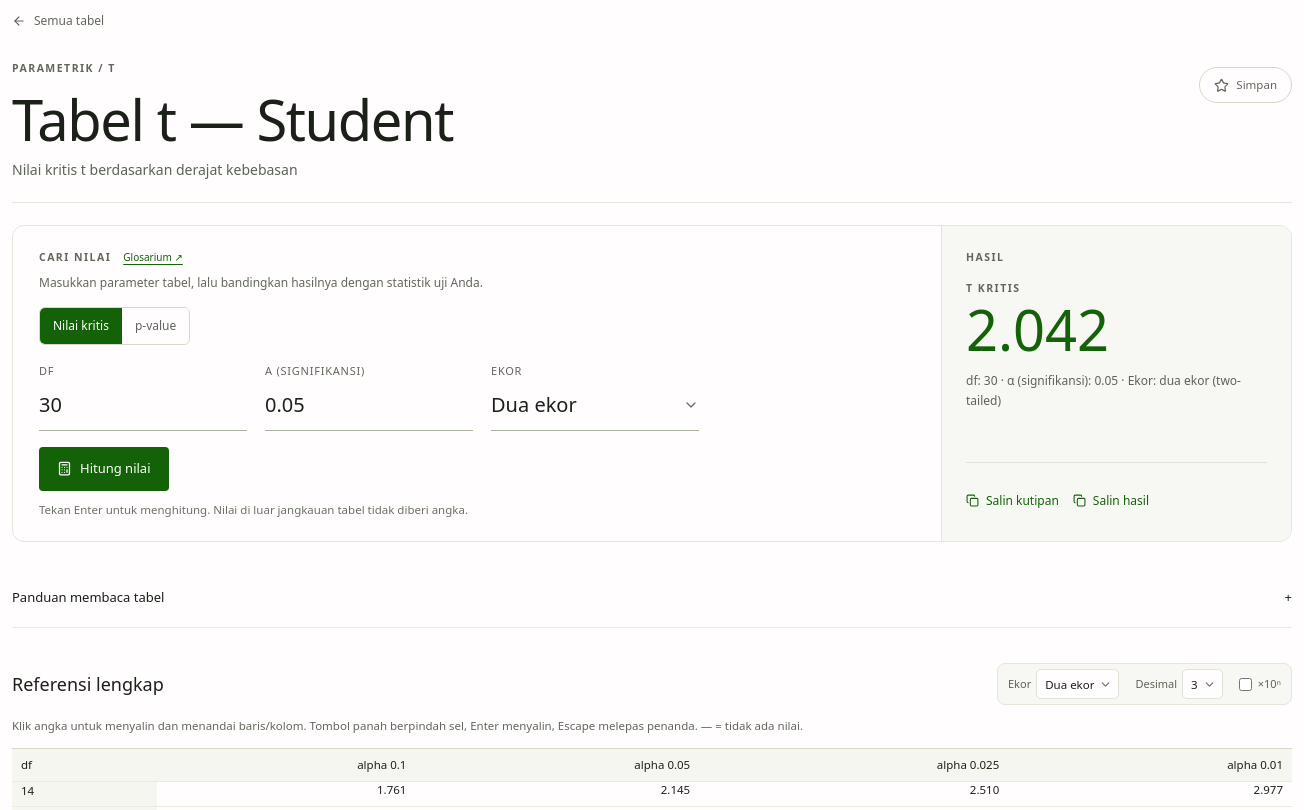
Scenario: mode p-value menghitung dari statistik uji
(page scrolled)
Click the button "p-value" at [156, 326], box [122,308,189,344]
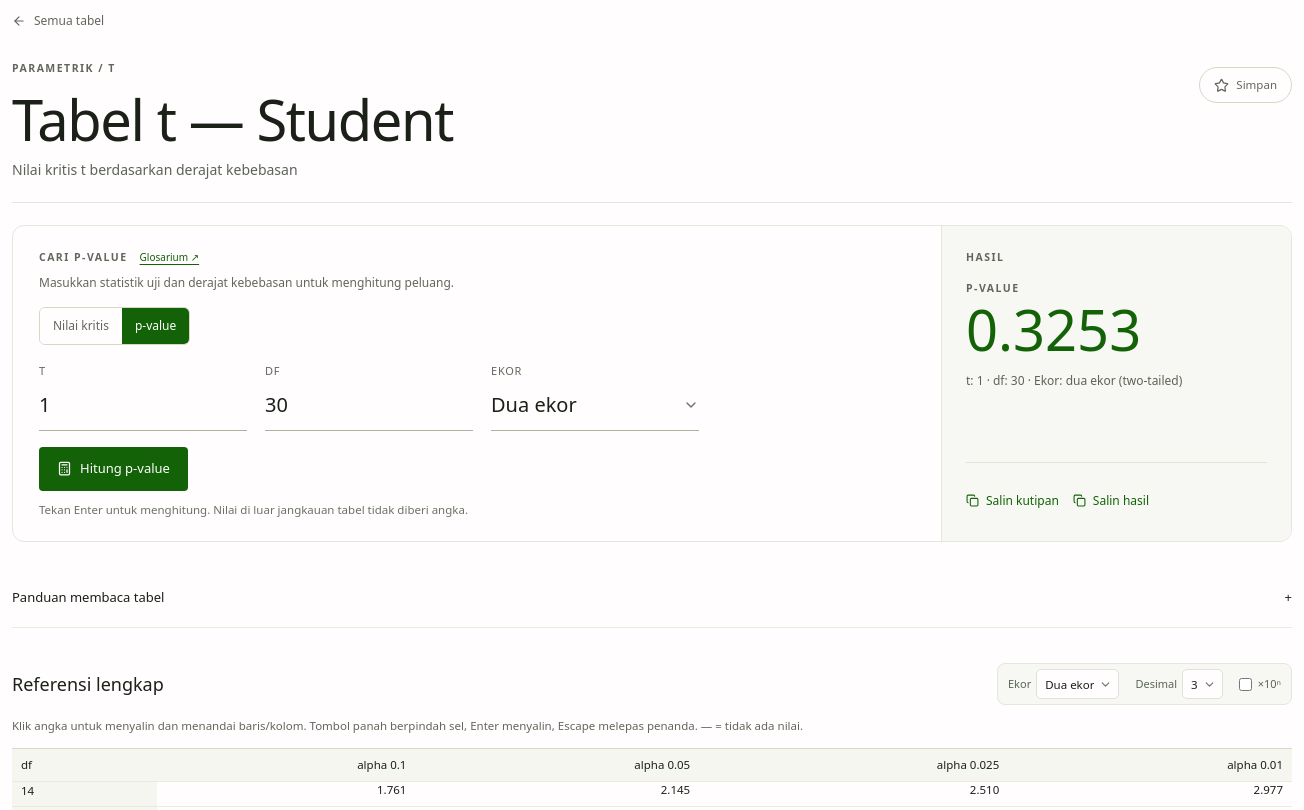
Replace the text in the field labelled "t" with "2.042" at [143, 405], box [39,380,247,431]
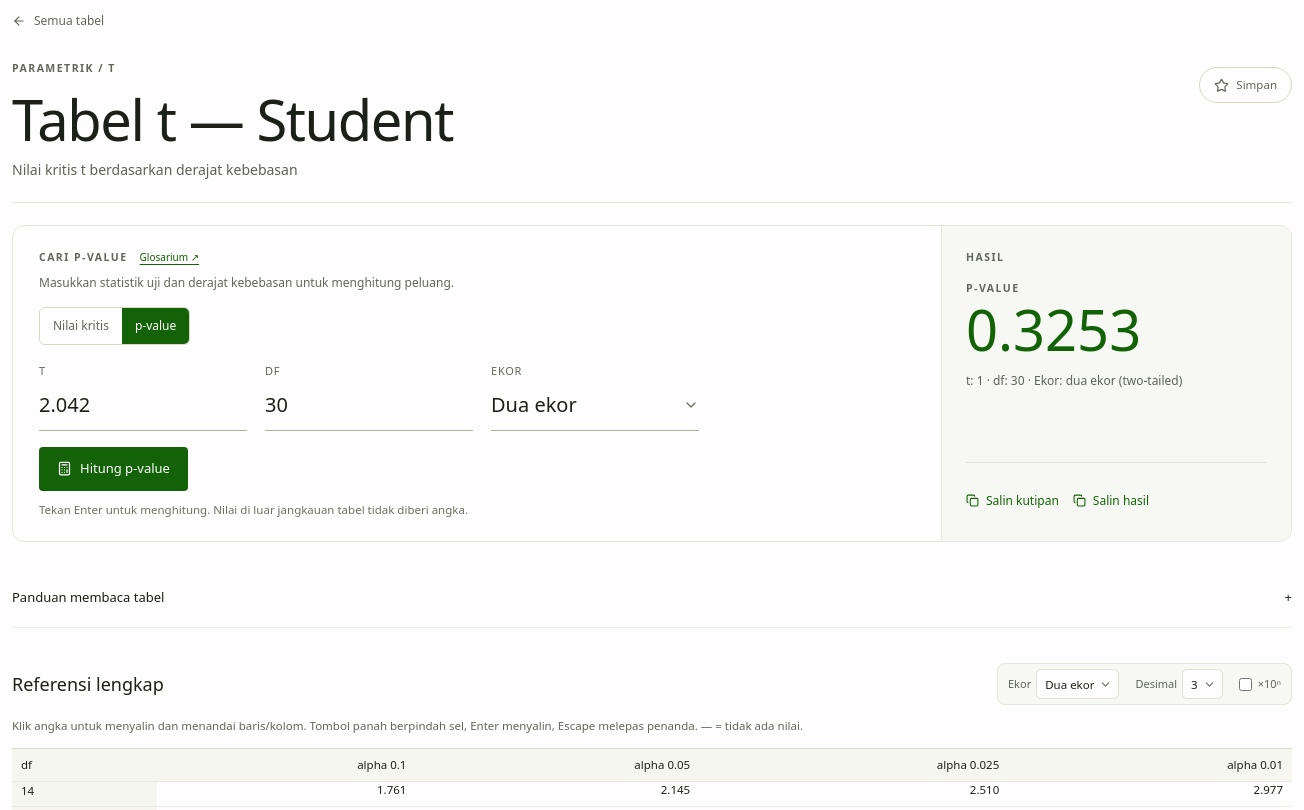
Click the button "Hitung p-value" at [113, 469], box [39,447,188,491]
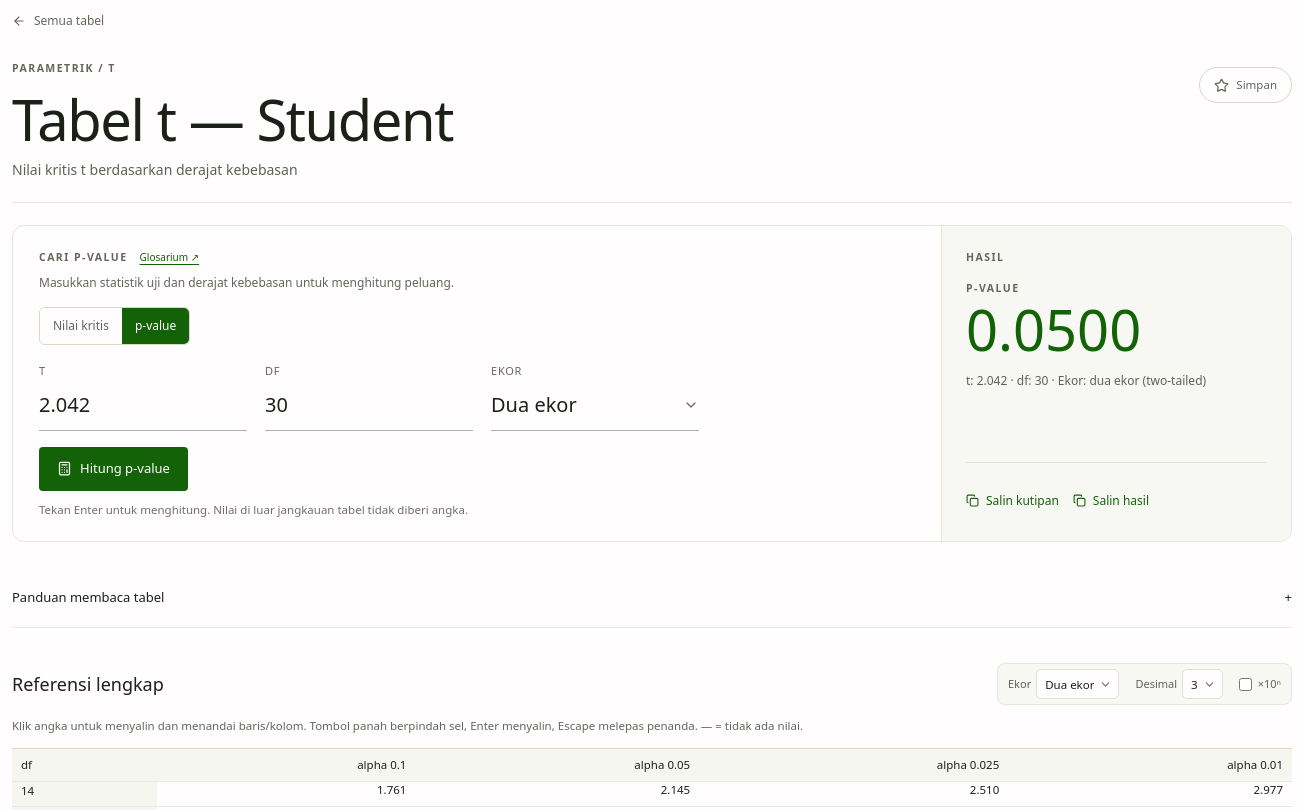
Expected: the text "0.0500" is shown, [966,297,1141,361]
